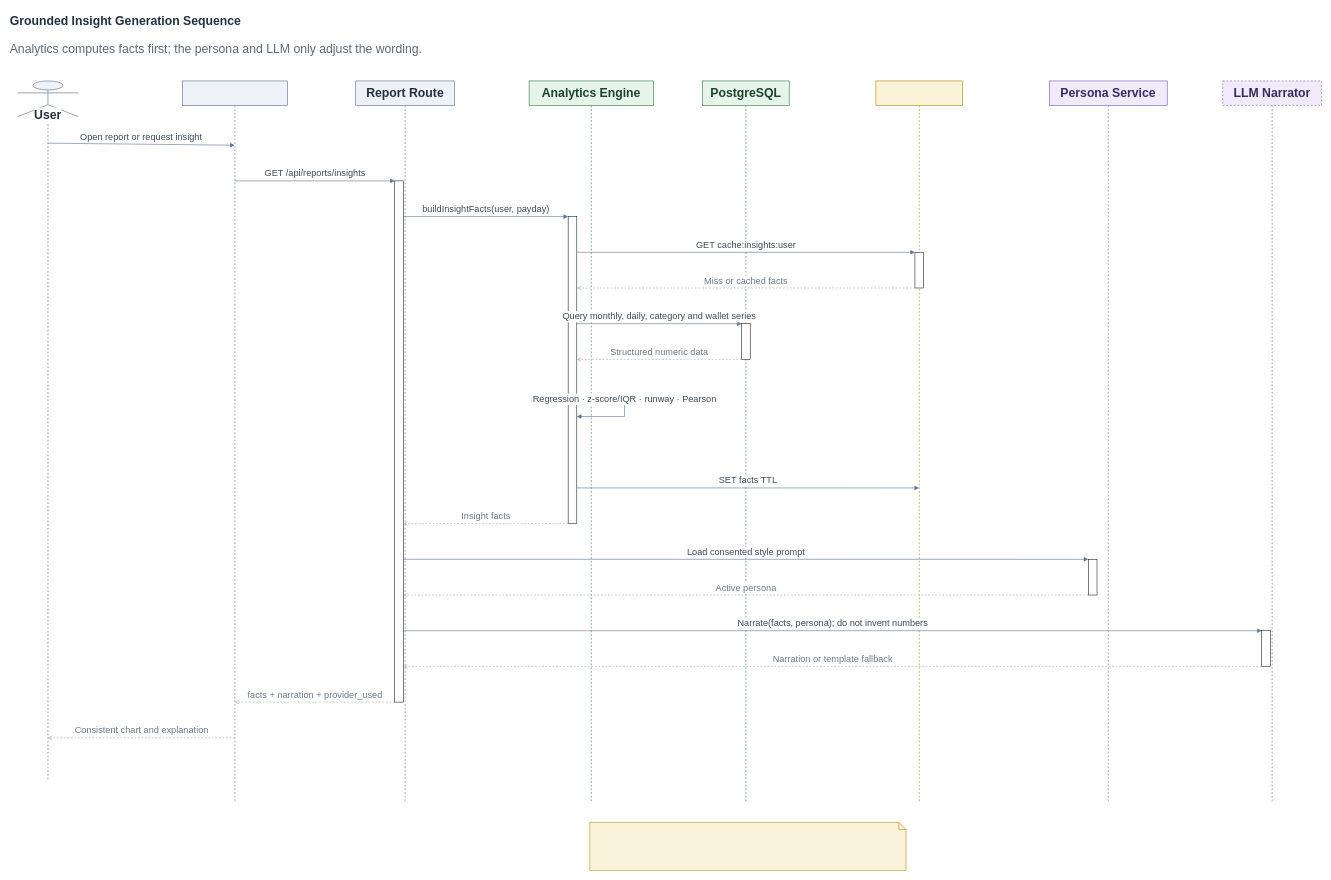
This 1331x880 diagram has some shape labels left out. The shapes that lost their labels are listed below. From the top down, each one's box as (x1, y1, x2, y2) in pixels, then its label:
(182, 80, 288, 802): Report Screen
(875, 80, 963, 802): KV / Redis
(589, 822, 906, 871): Numbers come only from deterministic algorithms
